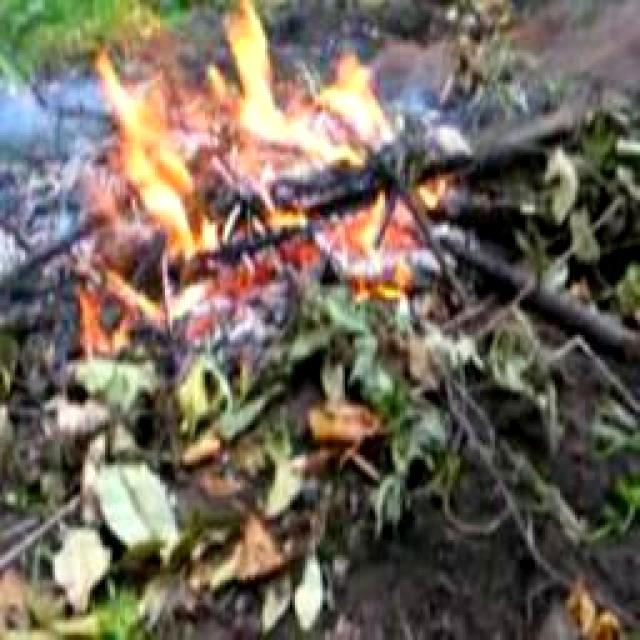fire: (70, 0, 210, 278), (223, 3, 395, 205)
